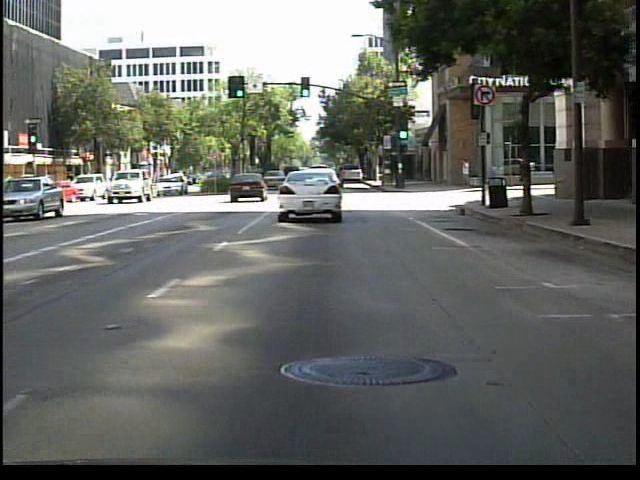person: (456, 155, 473, 194)
